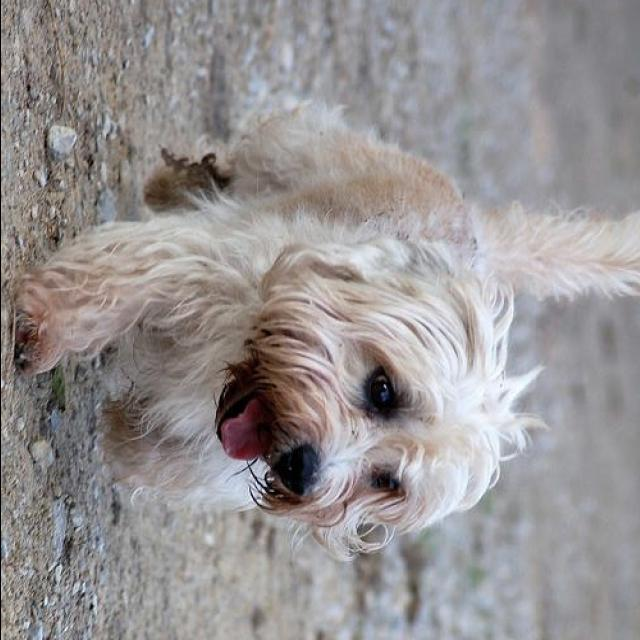dandie_dinmont: (16, 105, 640, 566)
